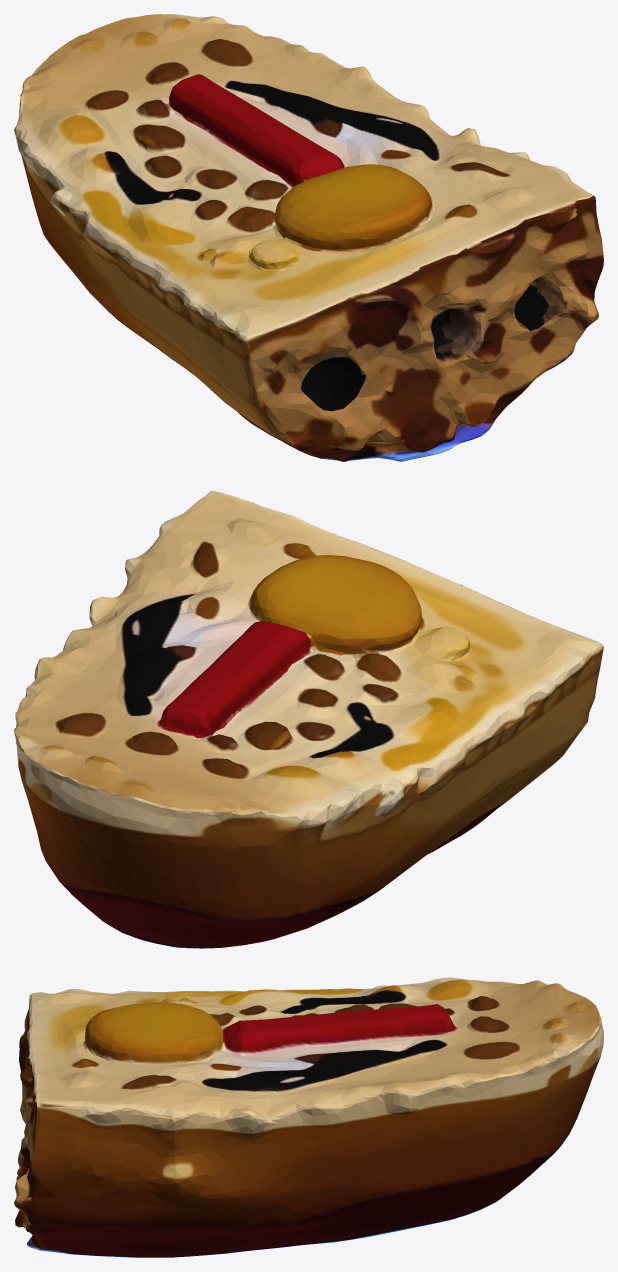
File: granola_bar.glb
The picture shows the model from 3 angles, top to bottom: view 1: azimuth 30°, elevation 25°; view 2: azimuth 150°, elevation 25°; view 3: azimuth 270°, elevation 25°; orthographic projection. The views are drawn at different scales.
Visible parts, largest first — view 1: tmpwkvt5jeo.ply; view 2: tmpwkvt5jeo.ply; view 3: tmpwkvt5jeo.ply.
Part boxes in pixels (x1,y1,x2,y2): tmpwkvt5jeo.ply: (14, 14, 603, 461); tmpwkvt5jeo.ply: (14, 490, 603, 948); tmpwkvt5jeo.ply: (14, 977, 603, 1257).
Size of the model in its own units: 1.35 by 0.8255 by 2.
Materials: 1 (1 with a texture image).
